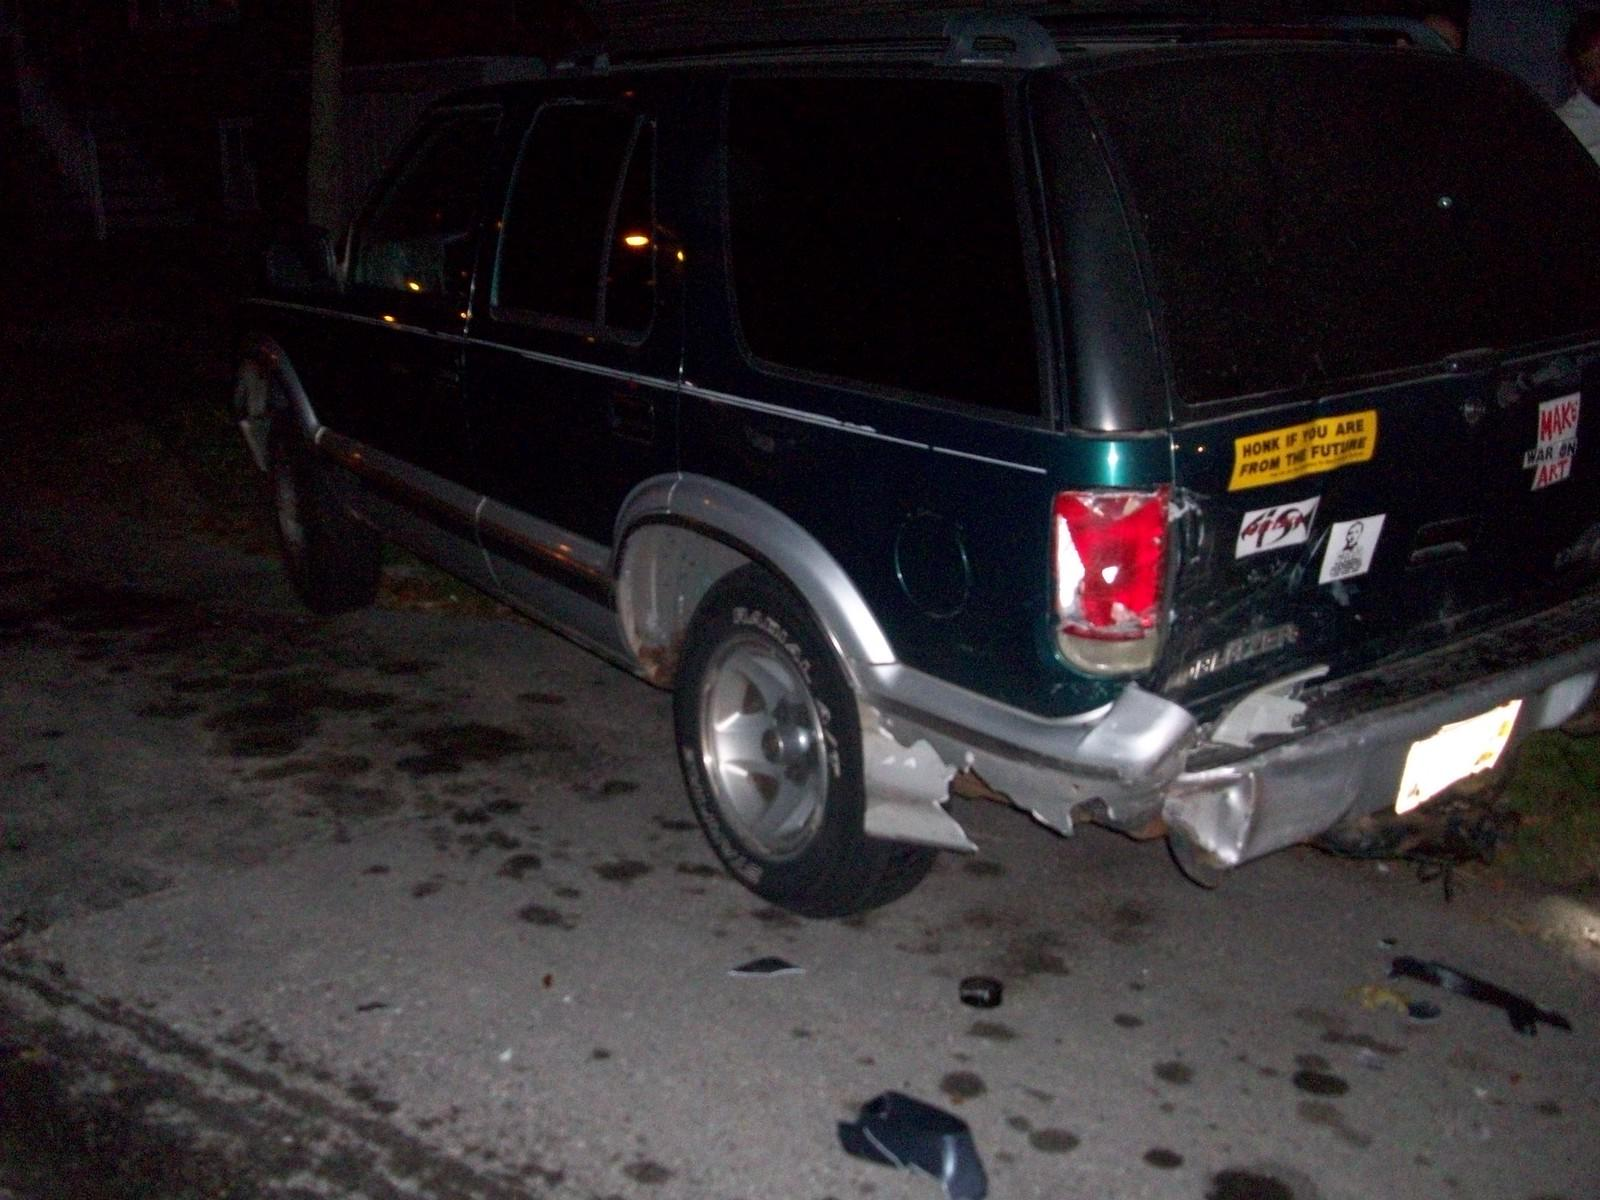Rear-windscreen-Damage: (860, 687, 1599, 934)
